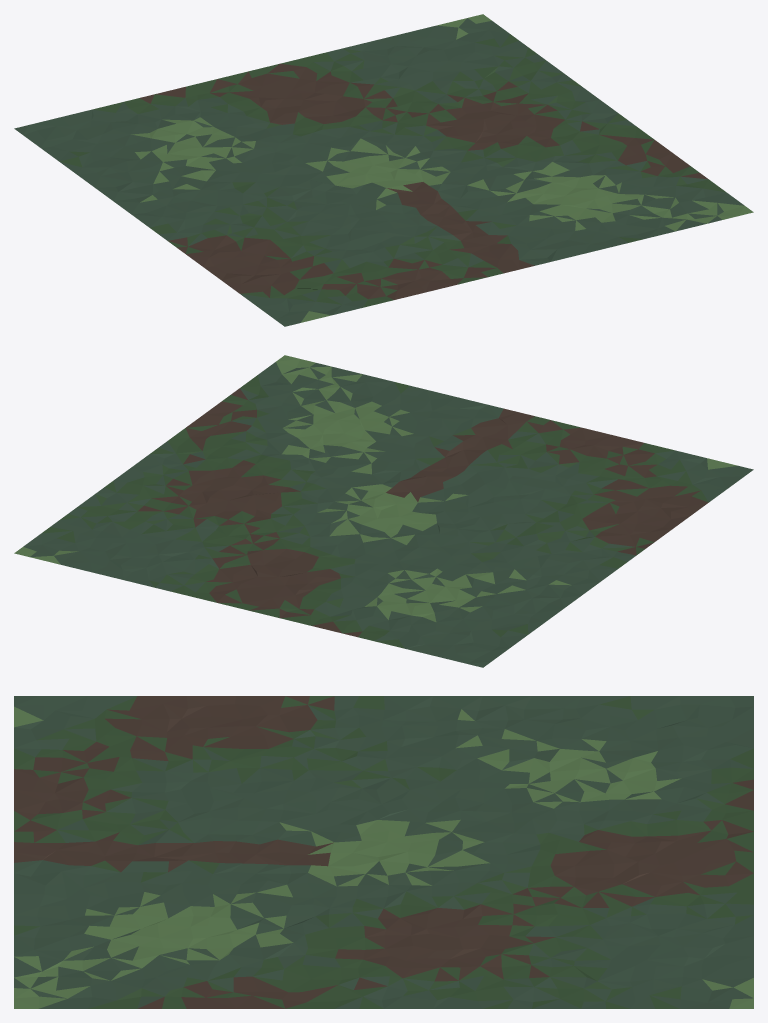
File: lobby_ground.fbx
3 views of the same model, one above another, from view 1: azimuth 30°, elevation 25°; view 2: azimuth 150°, elevation 25°; view 3: azimuth 270°, elevation 25° (orthographic). The views are drawn at different scales.
Parts seen in each view (by area): view 1: Ground; view 2: Ground; view 3: Ground.
Boxes of the visible parts, x1,y1,x2,y2 form: Ground: [14, 14, 753, 326]; Ground: [14, 355, 753, 667]; Ground: [14, 696, 753, 1008].
Bounding box in the file's own units: 120 × 0.3 × 120.
